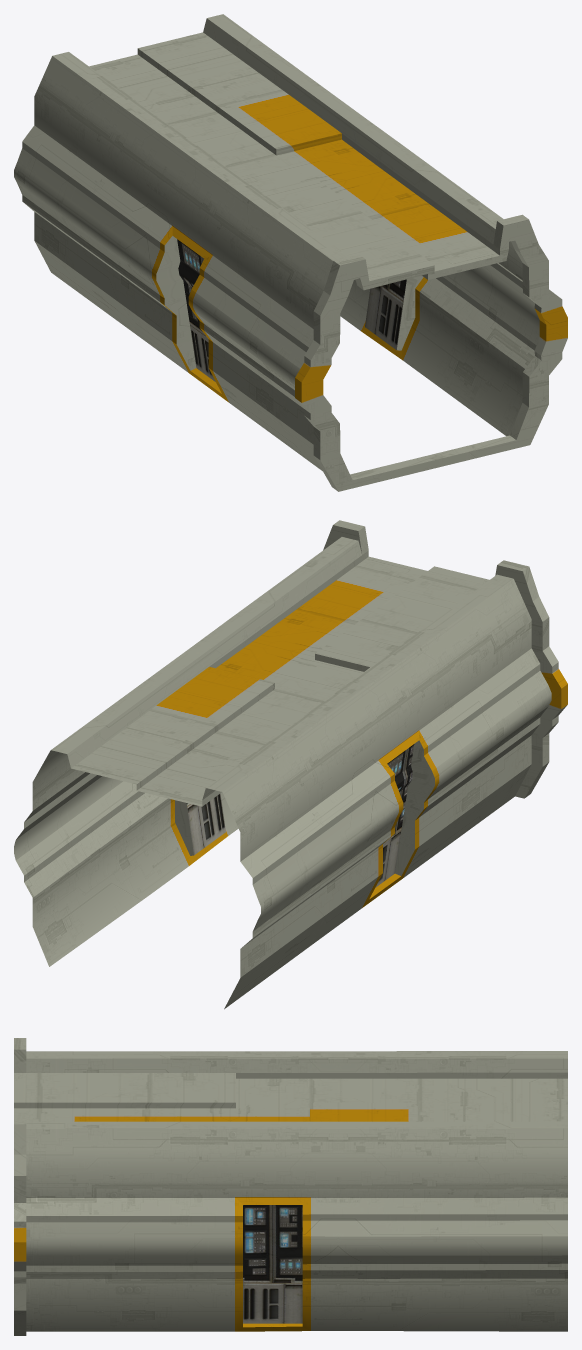
File: BandaTransportePuente.fbx
3 views of the same model, one above another, from view 1: azimuth 30°, elevation 25°; view 2: azimuth 150°, elevation 25°; view 3: azimuth 270°, elevation 25° (orthographic). The views are drawn at different scales.
Parts seen in each view (by area): view 1: Cube.236, Cube.241, Cube.243; view 2: Cube.236, Cube.241, Cube.243; view 3: Cube.236, Cube.241, Cube.243.
Boxes of the visible parts, bbox=[...] form: Cube.236: bbox=[14, 14, 539, 470]; Cube.241: bbox=[89, 32, 492, 274]; Cube.243: bbox=[295, 214, 567, 491]; Cube.236: bbox=[14, 537, 551, 1009]; Cube.241: bbox=[71, 561, 482, 806]; Cube.243: bbox=[323, 520, 567, 798]; Cube.236: bbox=[26, 1051, 567, 1331]; Cube.241: bbox=[26, 1073, 567, 1121]; Cube.243: bbox=[14, 1038, 26, 1335].
Size of the model in its own units: 70.92 by 57.49 by 137.
